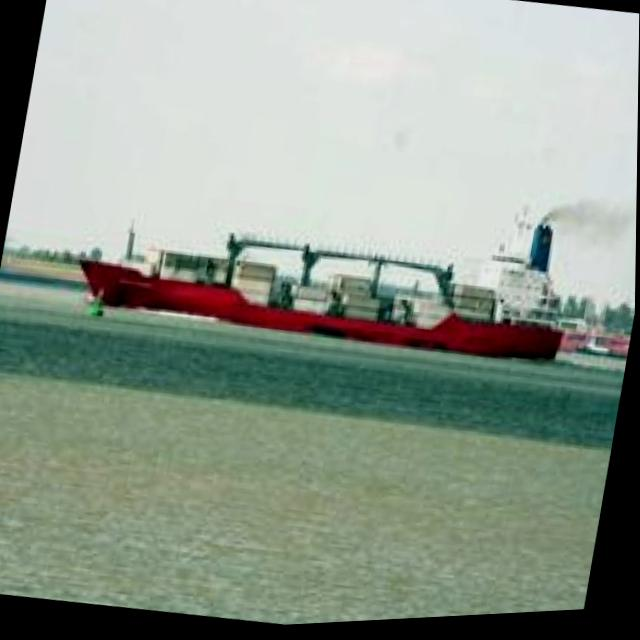ship2: (79, 216, 565, 366)
